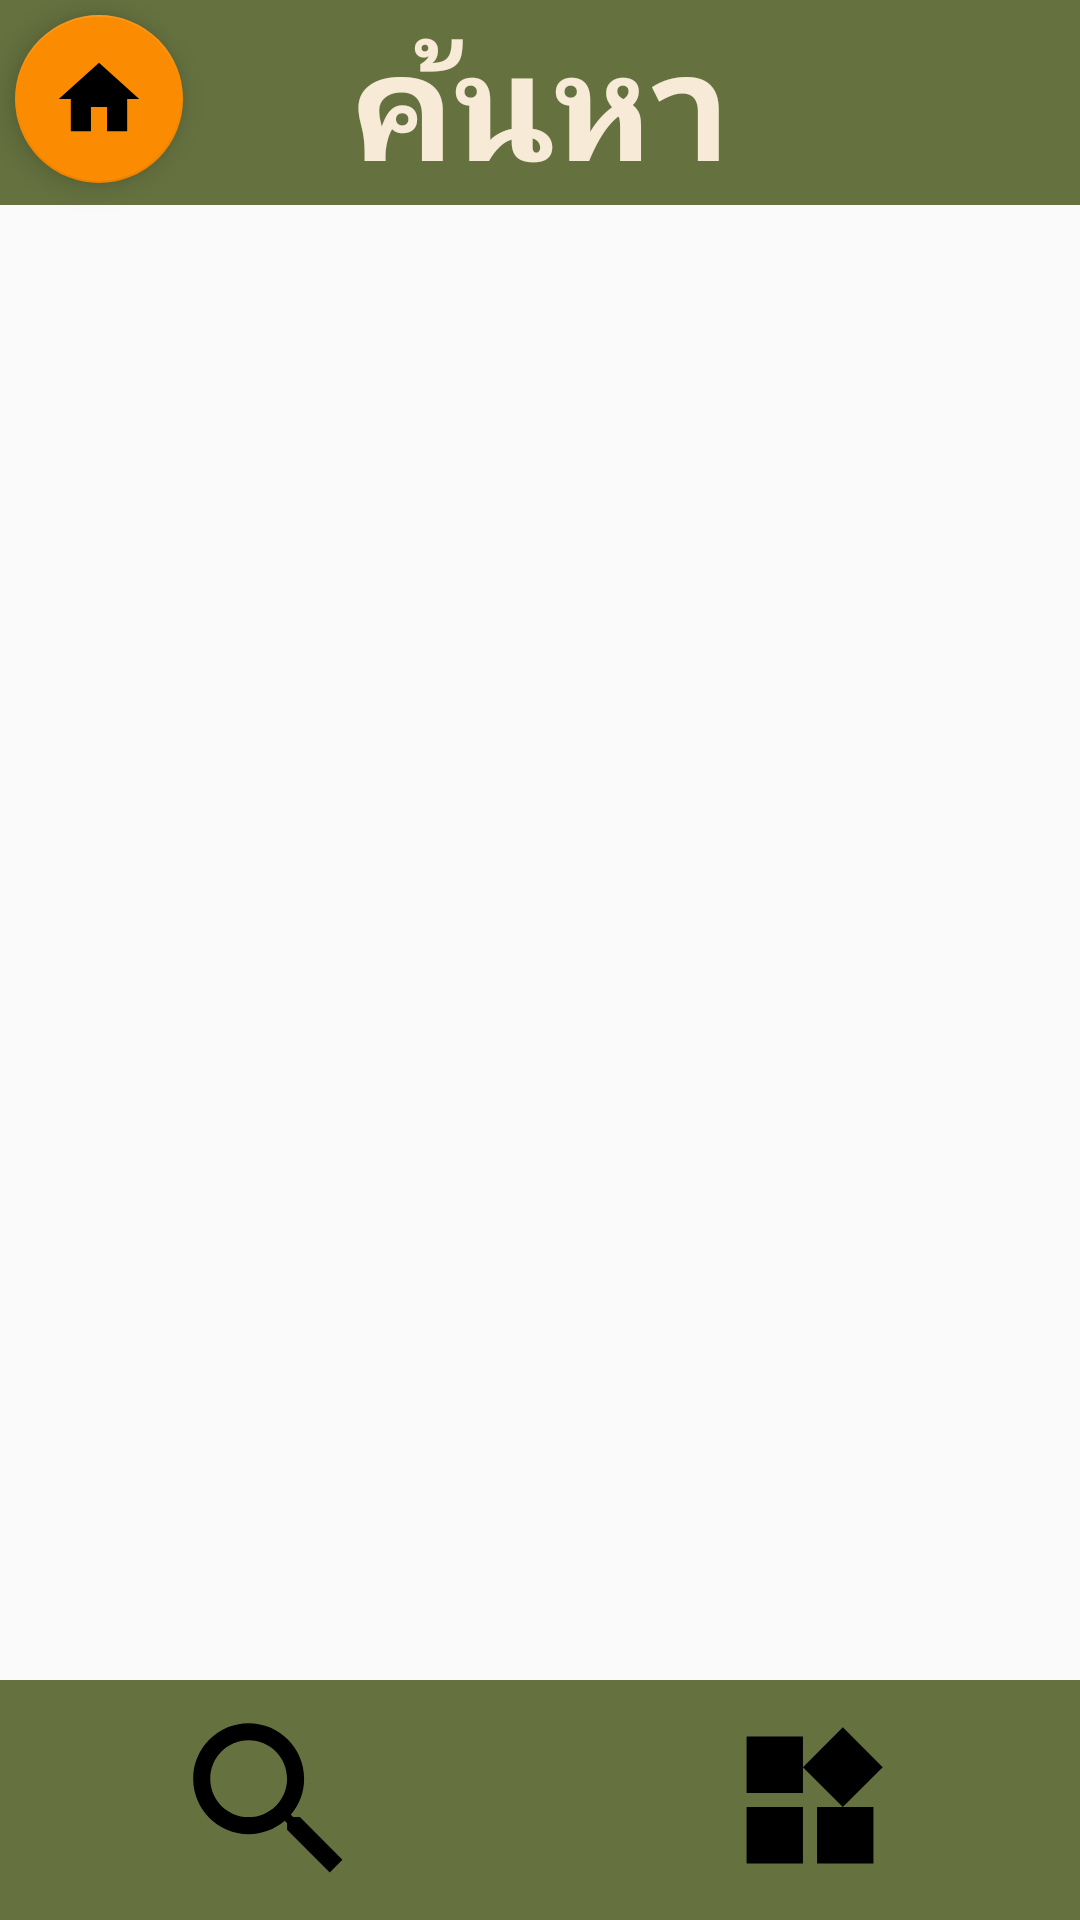

Icon click points for this 1080w x 1920h phone screenshot, format [x,y]:
home: [99,99]
product list: [814,1795]
search list: [267,1798]
